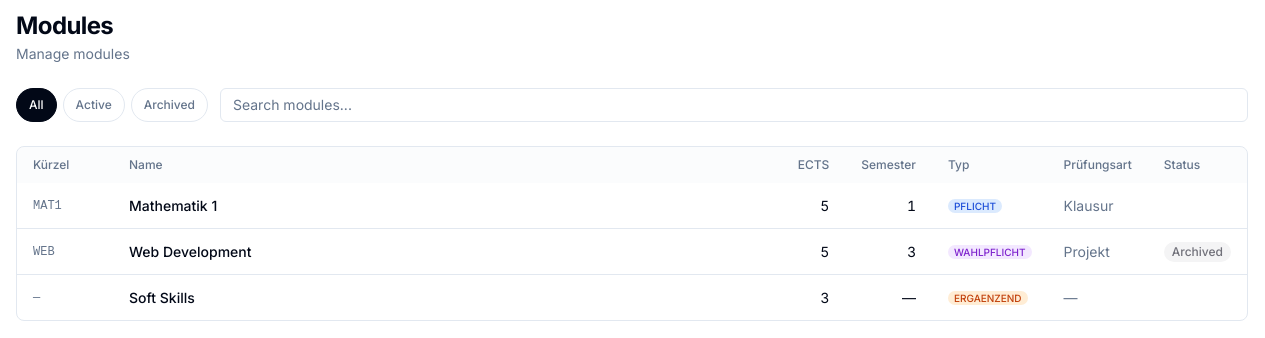
Test: AdminModulesPage › handles filters and search
Expected: the text "Mathematik 1" is shown, [113,183,781,228]
Expected: the text "Web Development" is shown, [113,228,781,274]
Note: Switch to 'active' filter
Click the button "Active": (94, 105) [63,88,125,122]
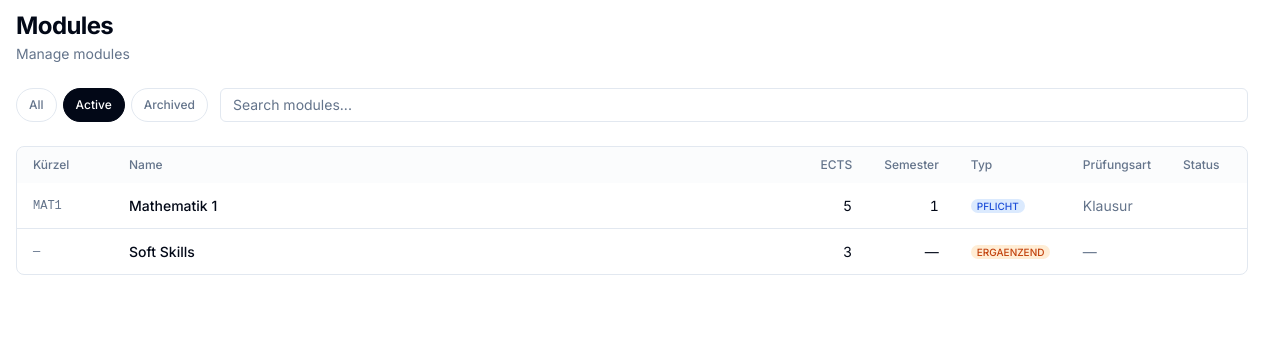
Expected: the text "Mathematik 1" is shown, [113,183,804,228]
Result: the text "Web Development" is gone
Note: Switch to 'archived' filter
Click the button "Archived": (169, 105) [131,88,208,122]
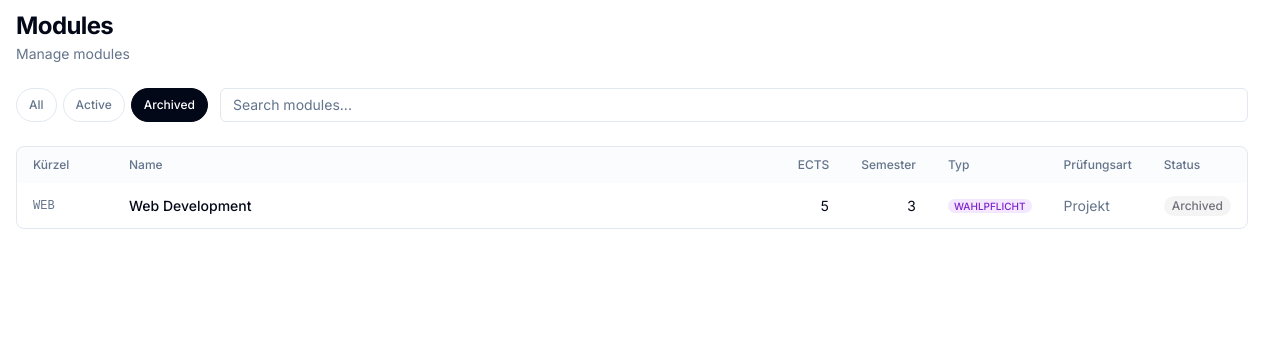
Result: the text "Mathematik 1" is gone
Result: the text "Soft Skills" is gone
Result: the text "Web Development" is shown at [113,183,781,228]
Note: Search input (by name)
Click the button "All": (36, 105) [16,88,57,122]
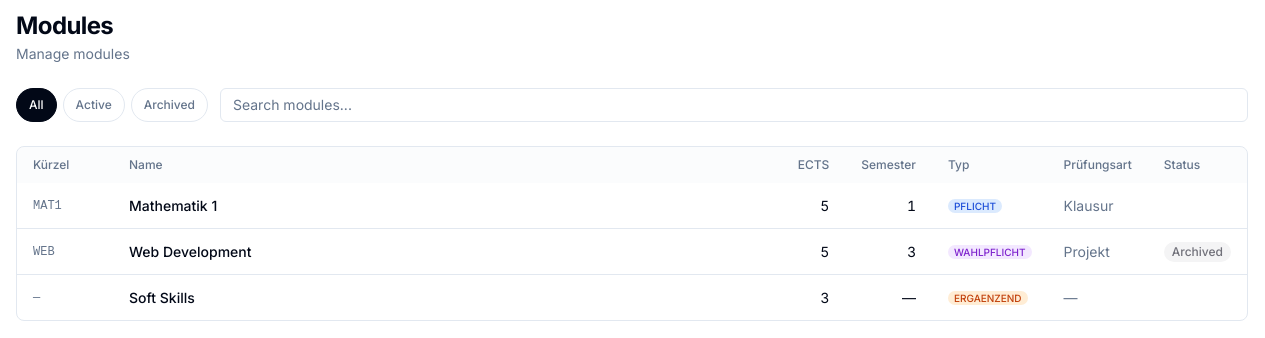
In the field with placeholder "Search modules...": (734, 105) [220,88,1248,122], type "Soft"
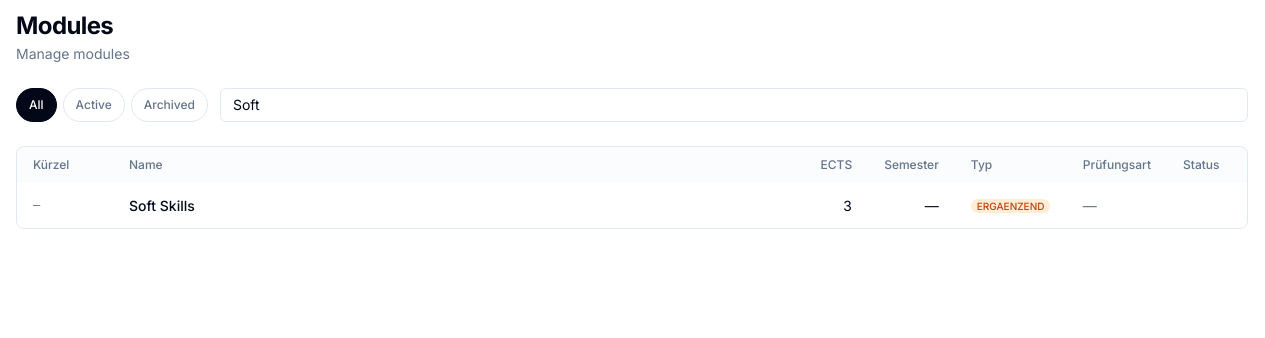
Result: the text "Soft Skills" is shown at [113,183,804,228]
Result: the text "Mathematik 1" is gone
Result: the text "Web Development" is gone
Note: Search input (by kuerzel)
Replace the text in the field with placeholder "Search modules..." with "MAT": (734, 105) [220,88,1248,122]
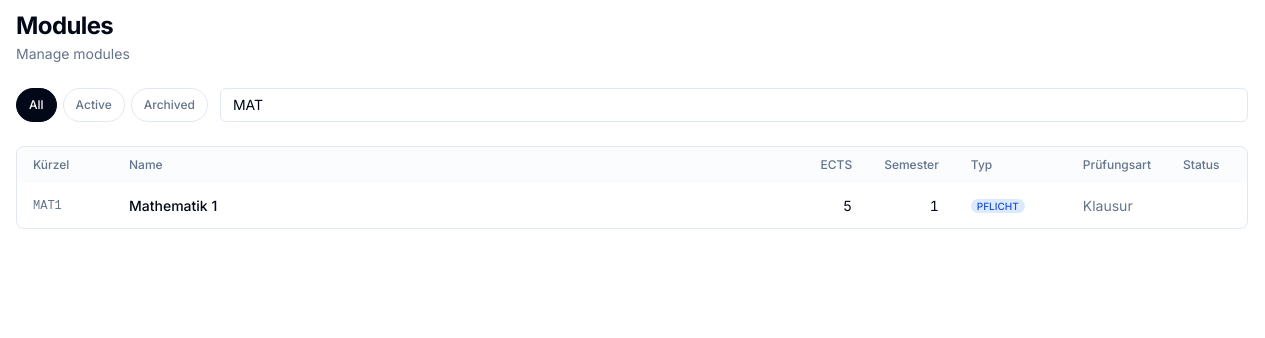
Result: the text "Mathematik 1" is shown at [113,183,804,228]
Result: the text "Soft Skills" is gone
